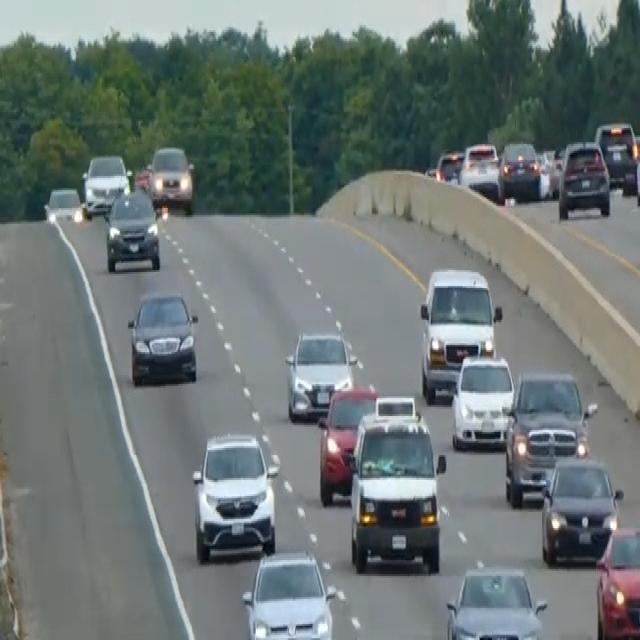car: (503, 366, 596, 507), (191, 428, 279, 562), (540, 452, 623, 566), (241, 548, 336, 638), (444, 562, 547, 638), (316, 384, 377, 505), (126, 288, 199, 386), (284, 327, 354, 421), (450, 350, 515, 450), (594, 523, 639, 638), (103, 187, 160, 272), (557, 137, 610, 220), (81, 151, 130, 217), (594, 119, 639, 190), (458, 140, 503, 202), (500, 137, 542, 201), (42, 185, 82, 224), (546, 142, 566, 196), (434, 148, 462, 183), (634, 133, 639, 208)
jeep: (148, 142, 195, 215)
minivan: (347, 402, 447, 574), (418, 263, 502, 404)
